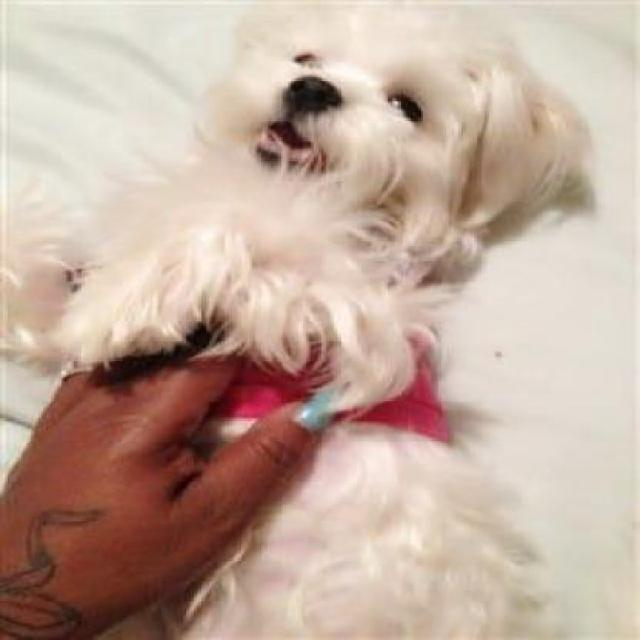Dog: (0, 6, 605, 639)
